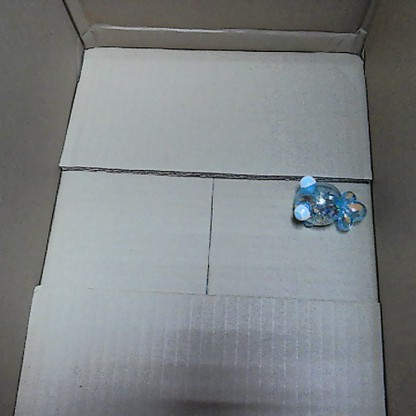bluefish: (288, 170, 367, 237)
